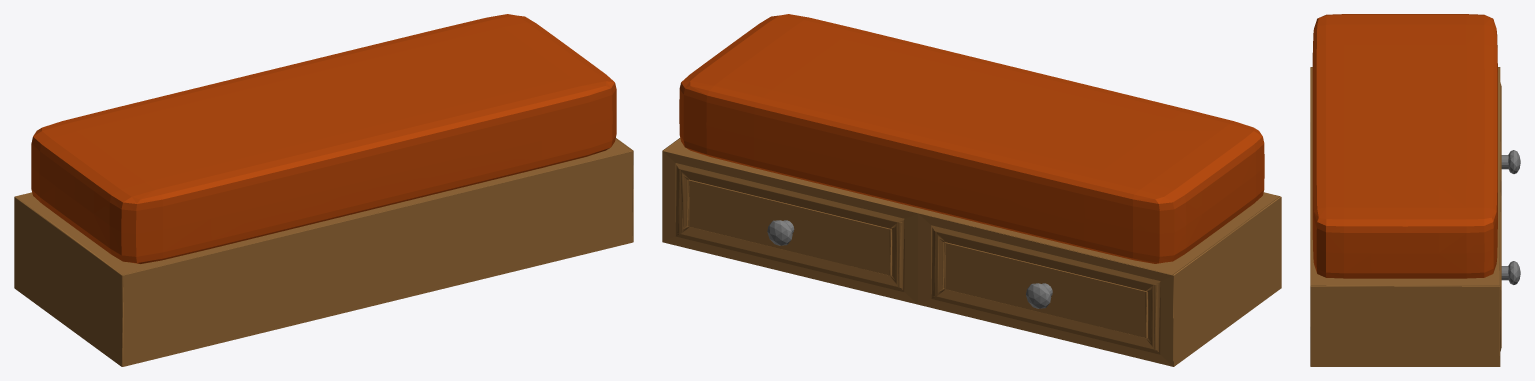
Rendered from sofa.obj.
3 renders of one model, left to right at view 1: azimuth 30°, elevation 25°; view 2: azimuth 150°, elevation 25°; view 3: azimuth 270°, elevation 25°, orthographic. The views are drawn at different scales.
Parts seen in each view (by area): view 1: Sofa_Cube.008; view 2: Sofa_Cube.008; view 3: Sofa_Cube.008.
Boxes of the visible parts, x1,y1,x2,y2 form: Sofa_Cube.008: [14, 14, 633, 366]; Sofa_Cube.008: [662, 14, 1281, 366]; Sofa_Cube.008: [1310, 14, 1520, 366].
Size of the model in its own units: 2.81 by 0.8445 by 1.14.
